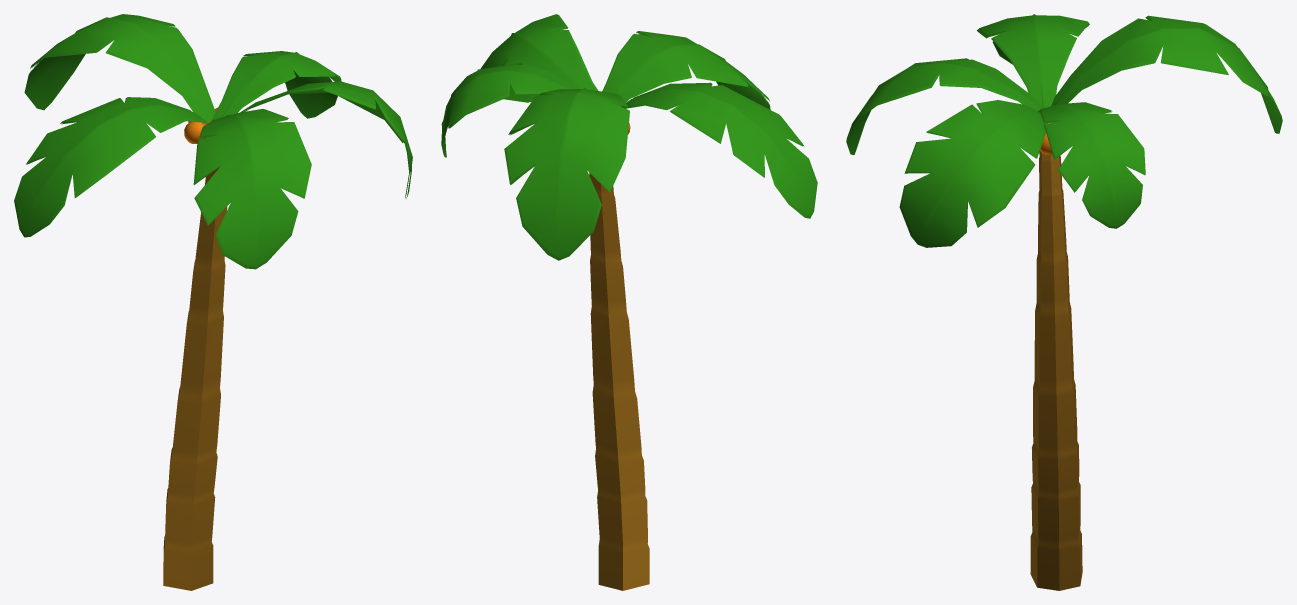
File: re_orange.fbx
3 views of the same model, side by side, from view 1: azimuth 30°, elevation 25°; view 2: azimuth 150°, elevation 25°; view 3: azimuth 270°, elevation 25° (orthographic). The views are drawn at different scales.
Visible parts, largest first — view 1: group3_polySurface26; view 2: group3_polySurface26; view 3: group3_polySurface26.
Boxes of the visible parts, left/top/right/bottom form: group3_polySurface26: left=14, top=14, right=412, bottom=590; group3_polySurface26: left=441, top=14, right=817, bottom=590; group3_polySurface26: left=846, top=14, right=1282, bottom=590.
Bounding box in the file's own units: 274 × 386 × 278.
